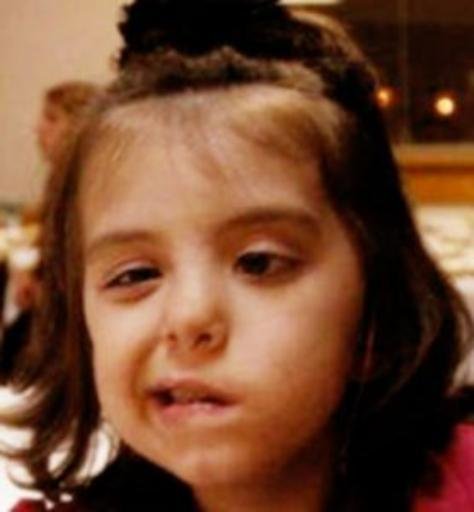left_eye: (233, 251, 301, 283)
left_lip_corner: (222, 390, 247, 417)
right_eye: (104, 266, 163, 294)
right_lip_corner: (139, 381, 165, 408)
